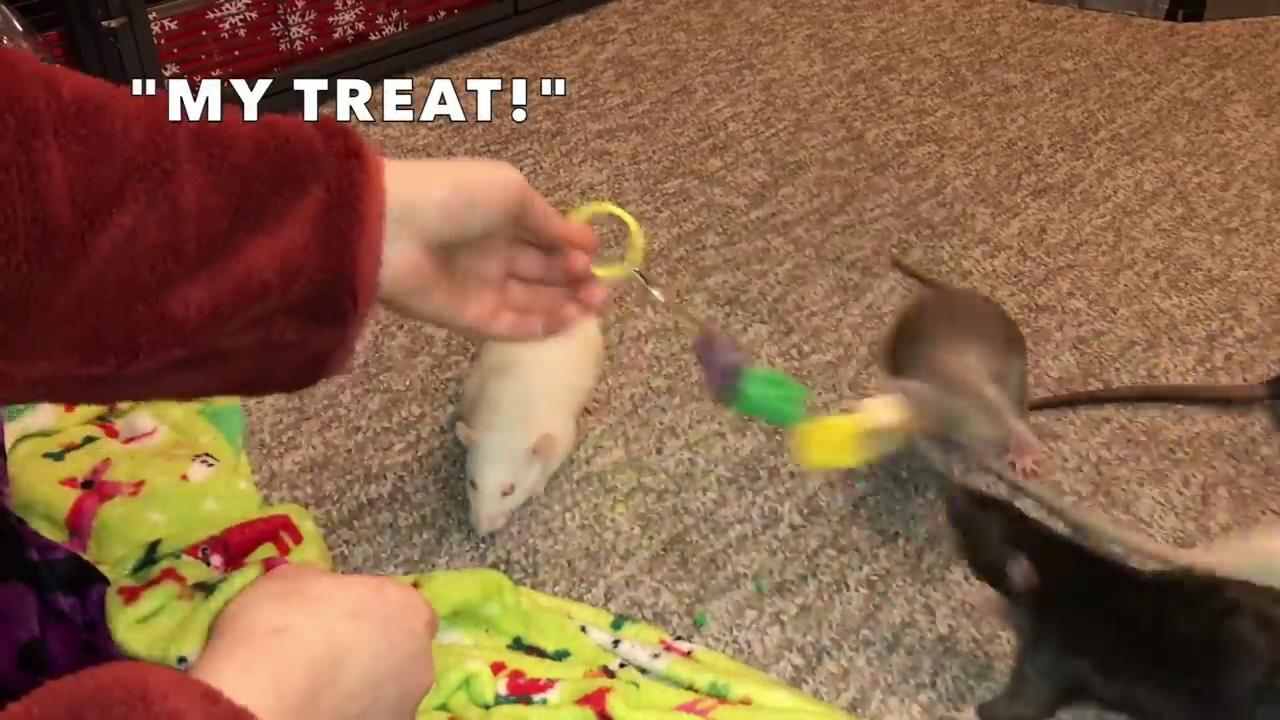rat: (877, 240, 1054, 481), (455, 339, 600, 540)
